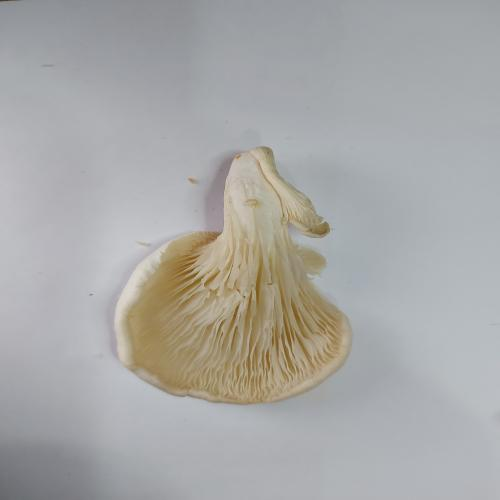Oyster Mushroom: (113, 145, 354, 405)
